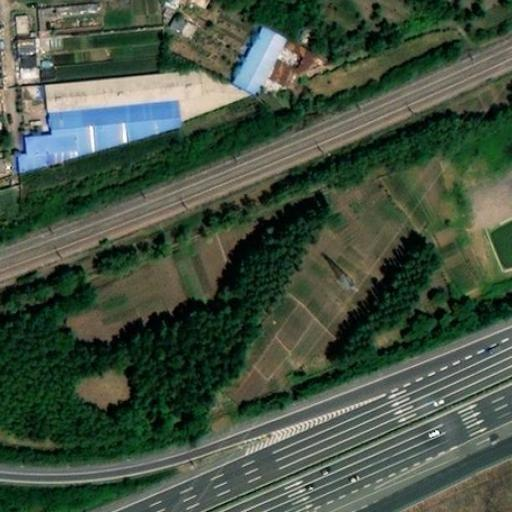building: (19, 130, 181, 184), (47, 99, 185, 141), (46, 82, 202, 110), (234, 38, 286, 109), (14, 32, 40, 80), (164, 9, 194, 37), (0, 180, 23, 205), (12, 9, 30, 33), (0, 149, 13, 174)
